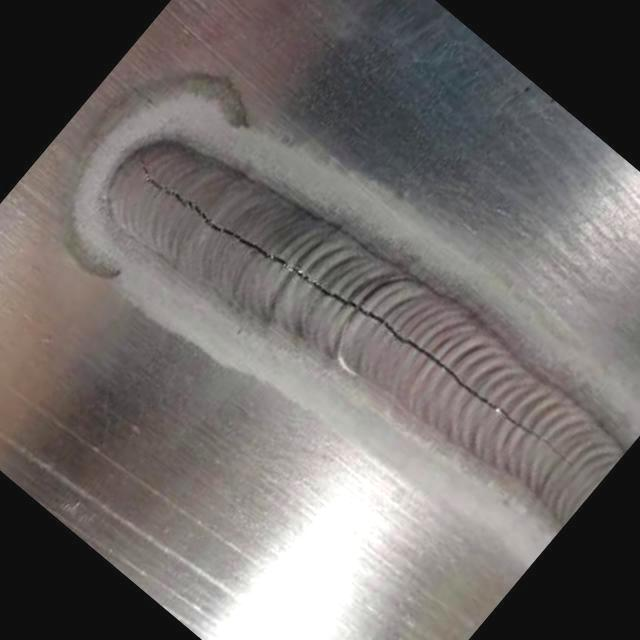defect: (135, 148, 575, 469)
